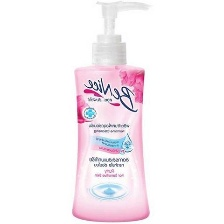cleaning_solution: (70, 0, 152, 224)
